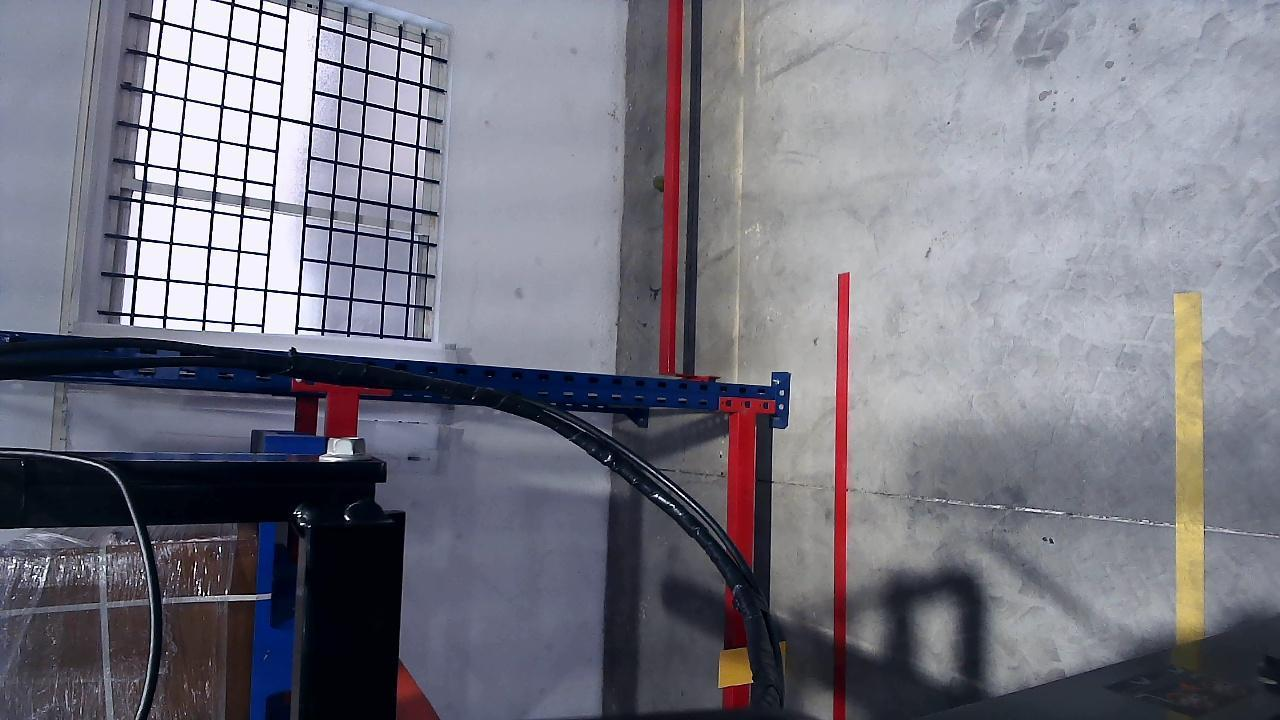red_line: (834, 270, 849, 720)
yellow_line: (1174, 293, 1206, 640)
